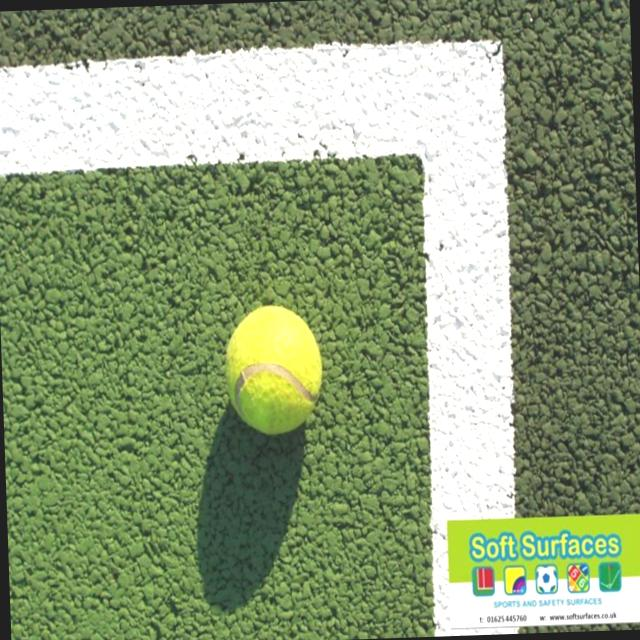Tennis Ball: (224, 304, 323, 436)
